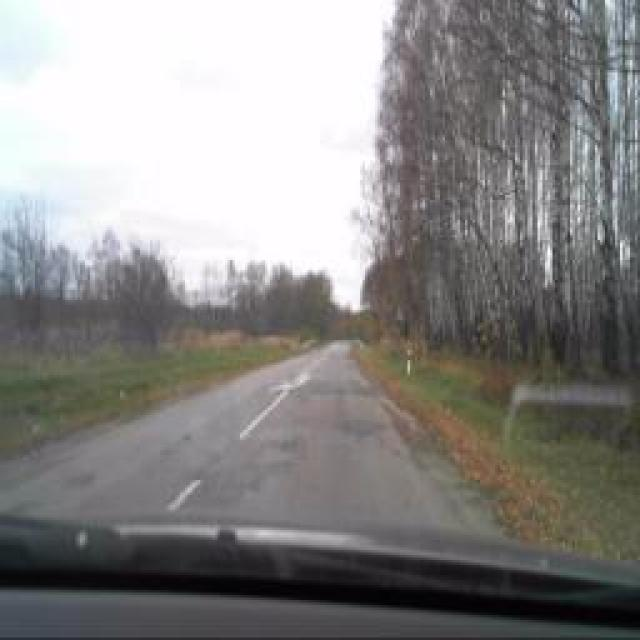sign: (395, 306, 405, 322)
